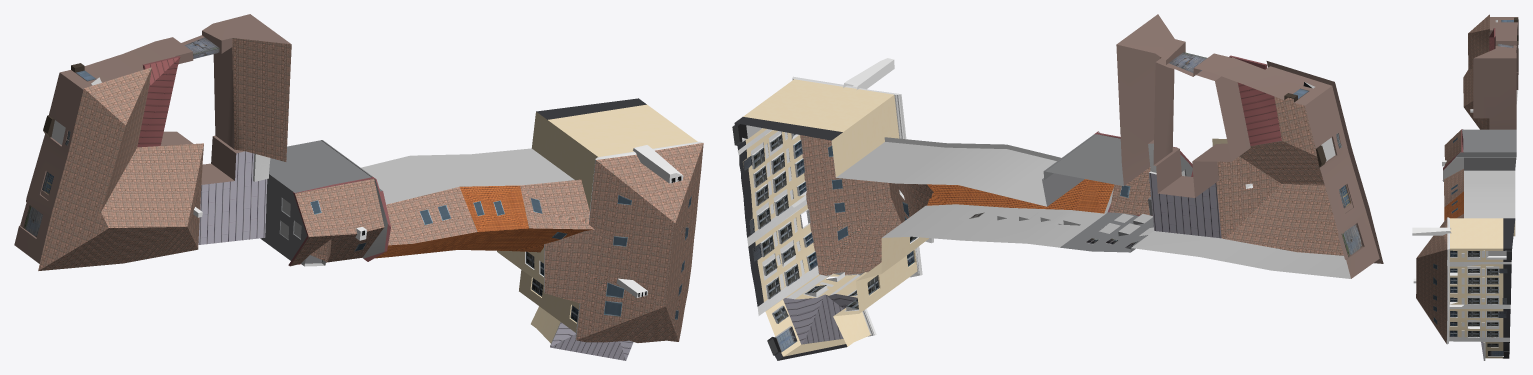
Rendered from Lai_52a-origo.obj.
3 views of the same model, side by side, from view 1: azimuth 30°, elevation 25°; view 2: azimuth 150°, elevation 25°; view 3: azimuth 270°, elevation 25° (orthographic). The views are drawn at different scales.
Visible parts, largest first — view 1: Lai_52a; view 2: Lai_52a; view 3: Lai_52a.
Part boxes in pixels (bbox=[...]): Lai_52a: bbox=[14, 14, 703, 360]; Lai_52a: bbox=[732, 14, 1383, 360]; Lai_52a: bbox=[1412, 14, 1518, 360].
Size of the model in its own units: 73.06 by 45.5 by 20.45.
